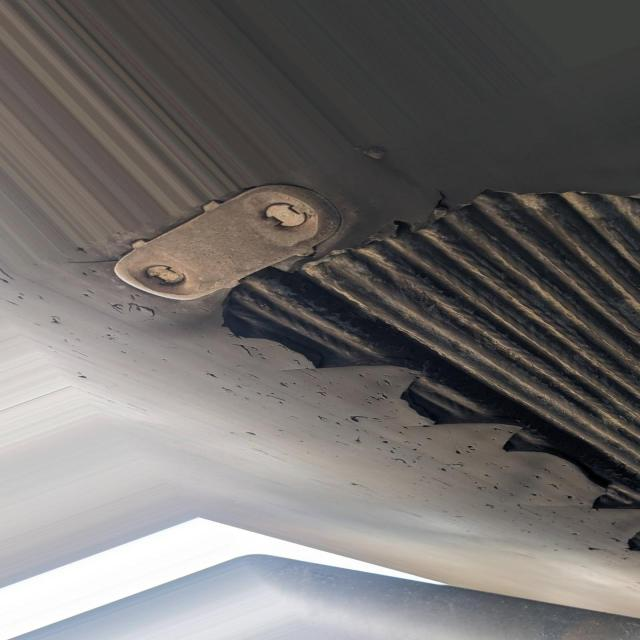Tear: (209, 181, 640, 563)
